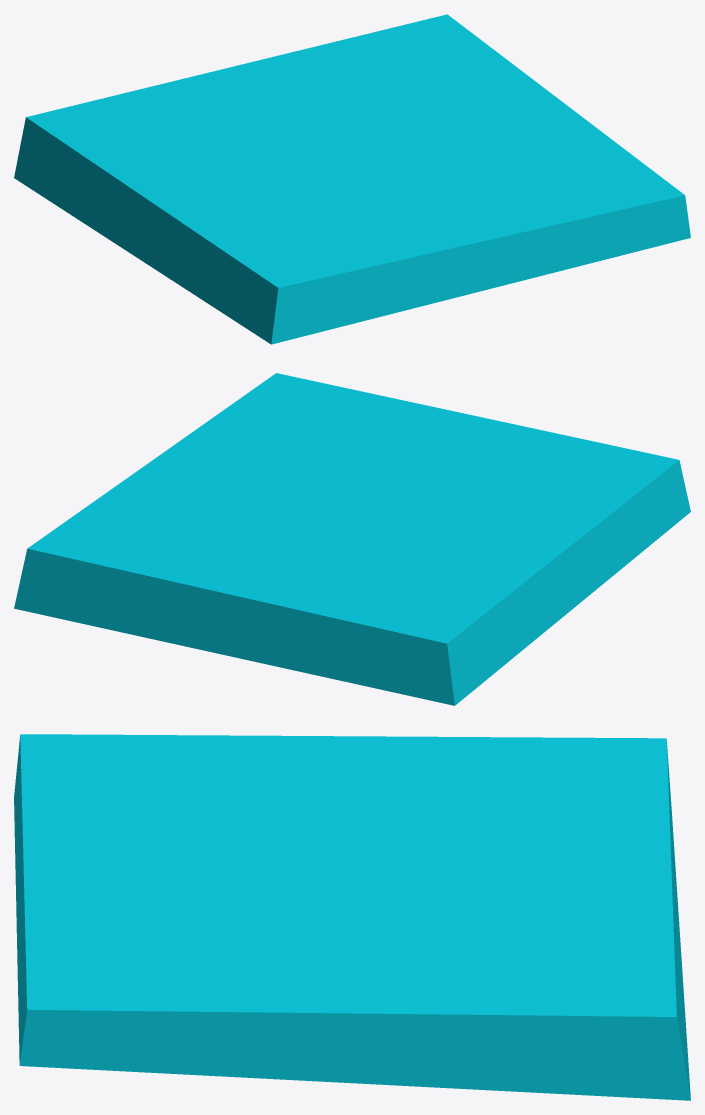
The model's file is Lid.glb.
3 renders of one model, top to bottom at view 1: azimuth 30°, elevation 25°; view 2: azimuth 150°, elevation 25°; view 3: azimuth 270°, elevation 25°, orthographic. The views are drawn at different scales.
Parts seen in each view (by area): view 1: Tampa; view 2: Tampa; view 3: Tampa.
Part boxes in pixels (x1,y1,x2,y2): Tampa: [14, 14, 690, 344]; Tampa: [14, 373, 690, 705]; Tampa: [14, 734, 690, 1100].
Size of the model in its own units: 0.3094 by 0.0467 by 0.3101.
